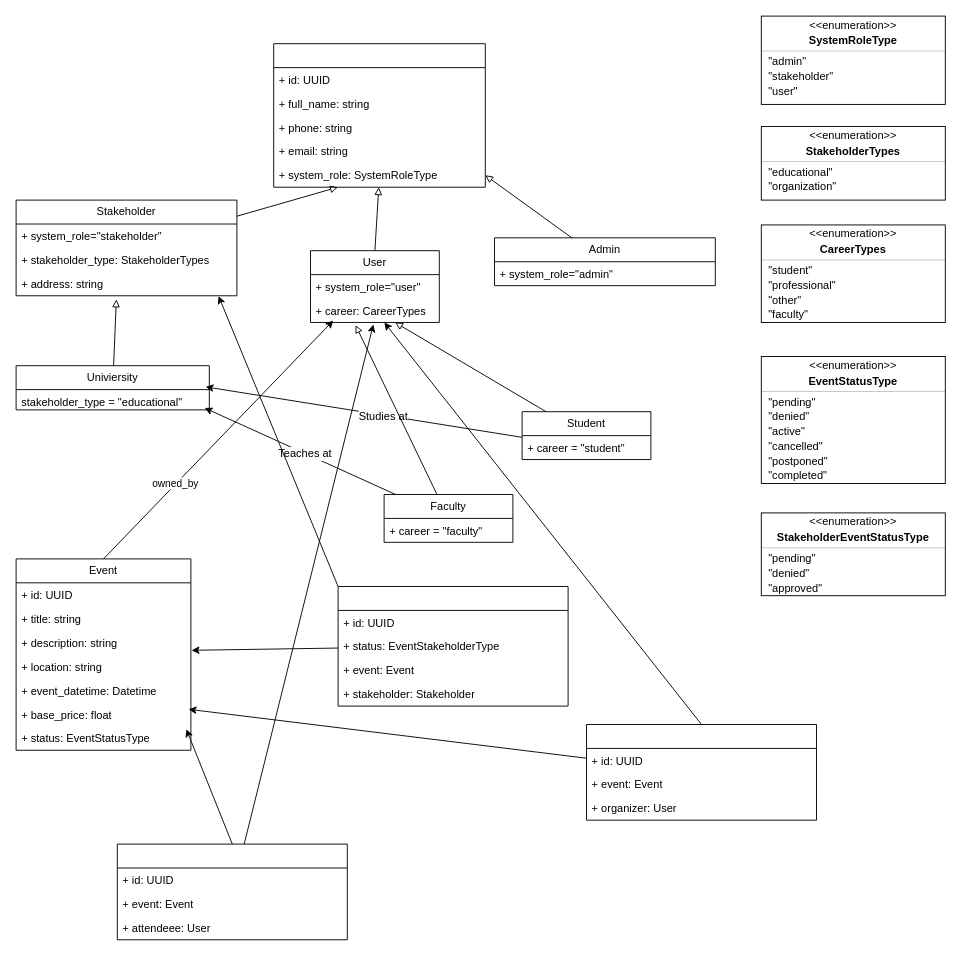
Image size: 961x959. Some labels were removed from this diagram. Here are the shapes that lost their labels. From the top down, the box of each, then its label:
(273, 43, 485, 187): AuthenticatedUser
(337, 586, 568, 706): event_stakeholders
(586, 724, 816, 820): event_organizer
(116, 843, 347, 940): event_attendance
